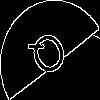Q: (25, 25, 75, 88)
